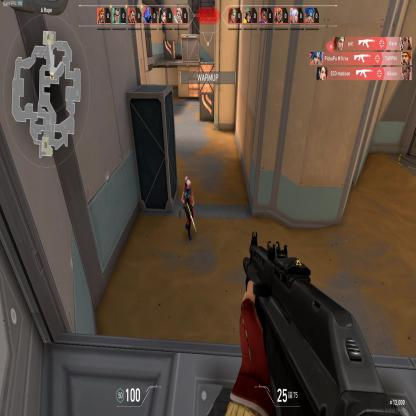enemy: (180, 174, 195, 246)
